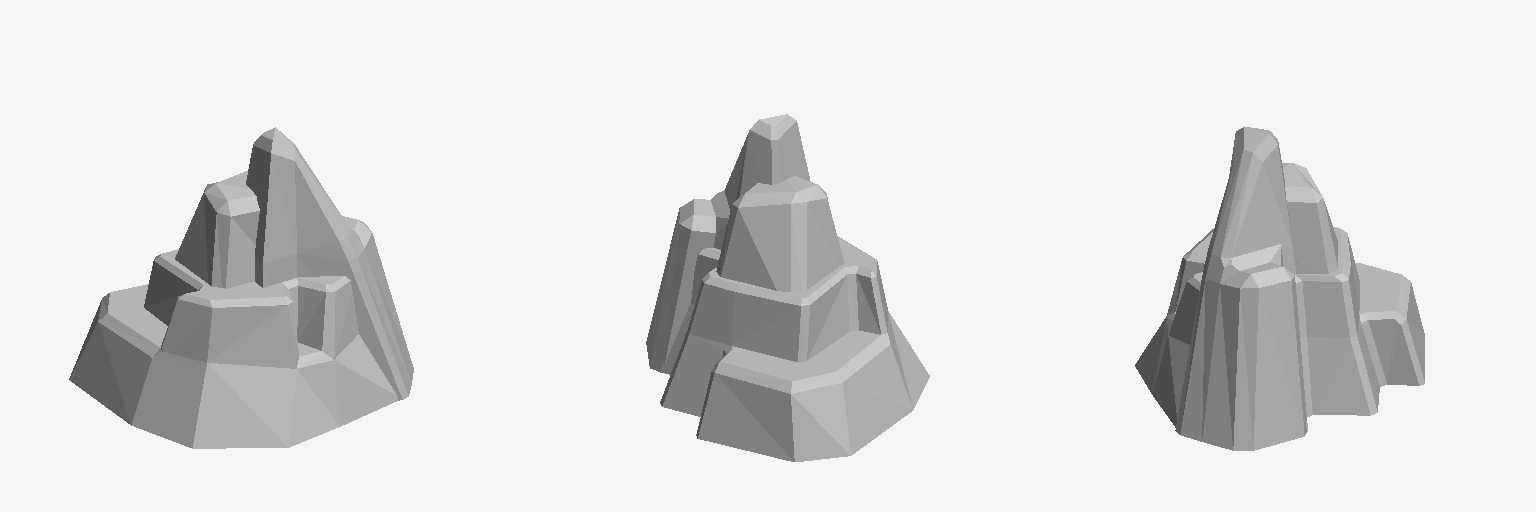
The model's file is Rock.obj.
3 renders of one model, left to right at view 1: azimuth 30°, elevation 25°; view 2: azimuth 150°, elevation 25°; view 3: azimuth 270°, elevation 25°, orthographic.
Visible parts, largest first — view 1: Cube.001; view 2: Cube.001; view 3: Cube.001.
Part boxes in pixels (bbox=[...]): Cube.001: bbox=[69, 127, 413, 448]; Cube.001: bbox=[646, 114, 929, 461]; Cube.001: bbox=[1135, 126, 1424, 450].
Bounding box in the file's own units: 1.61 × 1.47 × 1.5.